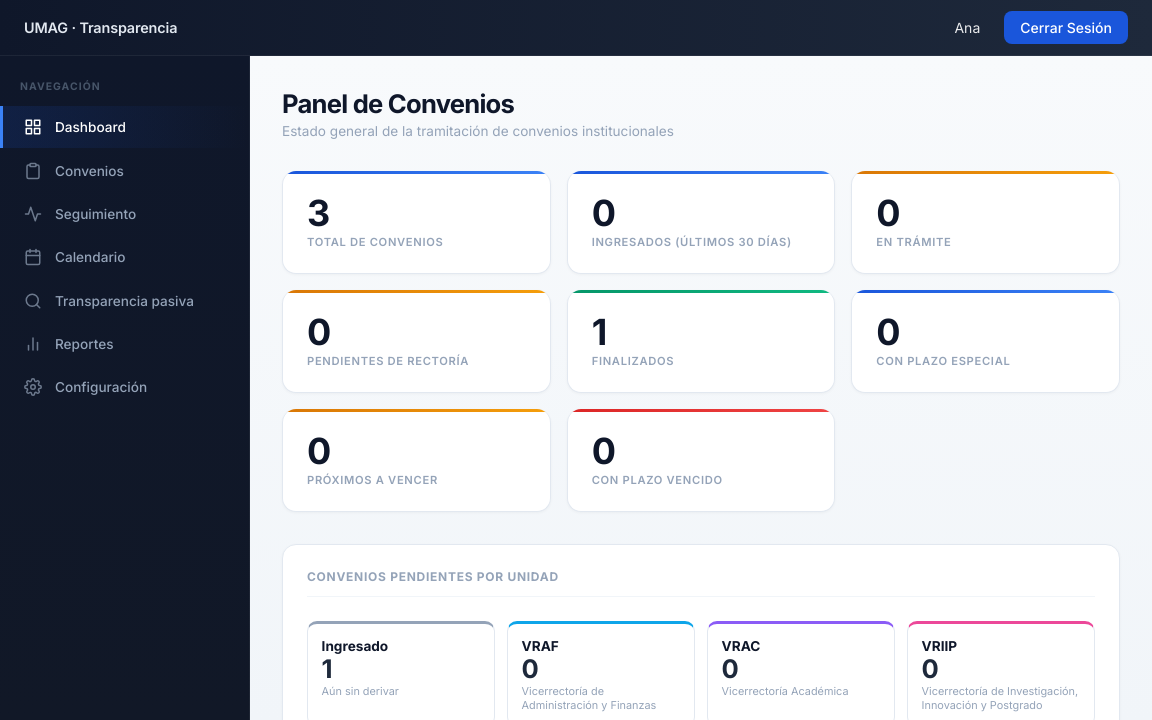
filtros del listado de convenios › entrar por el menú lateral NO arrastra el filtro de la tarjeta
This screenshot has width=1152, height=720.
Step 1. Click the text "Finalizados" → (633, 361), box [592,354,674,368]
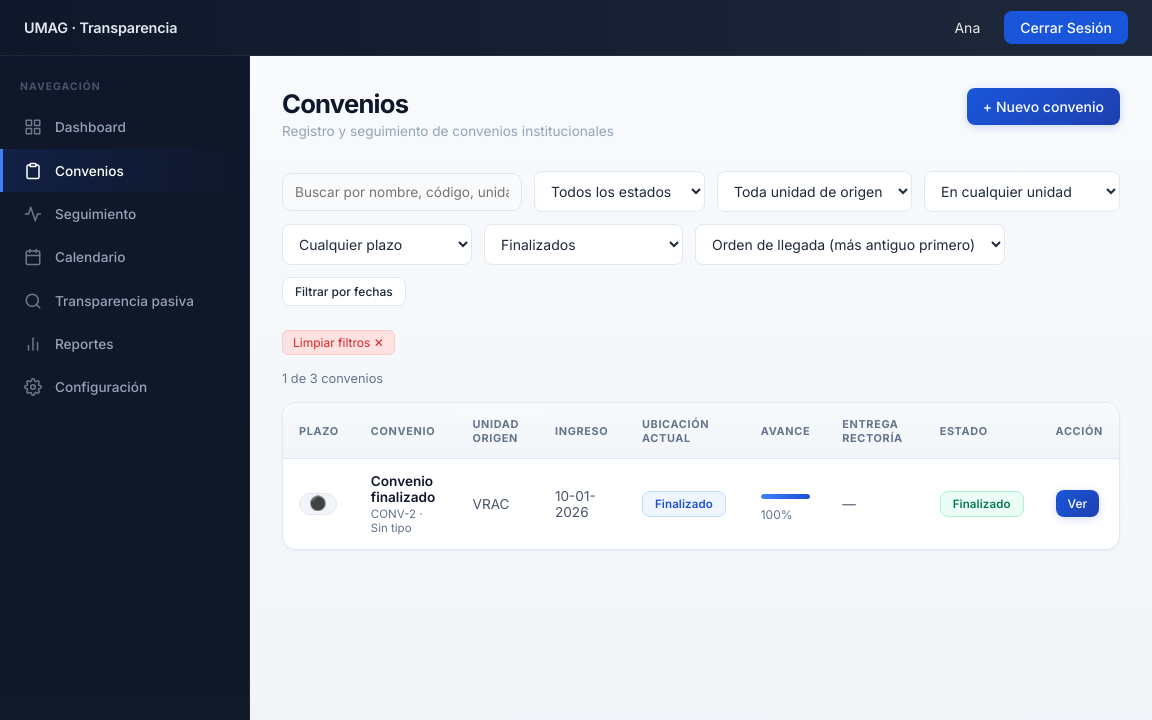
Now the field with placeholder "Buscar por nombre, código, unidad, contraparte..." is shown, box [282,172,522,210]
Now the text "1 de 3 convenios" is shown, box [282,371,383,386]
Step 2. Click the text "Dashboard" → (75, 127), box [24,118,126,136]
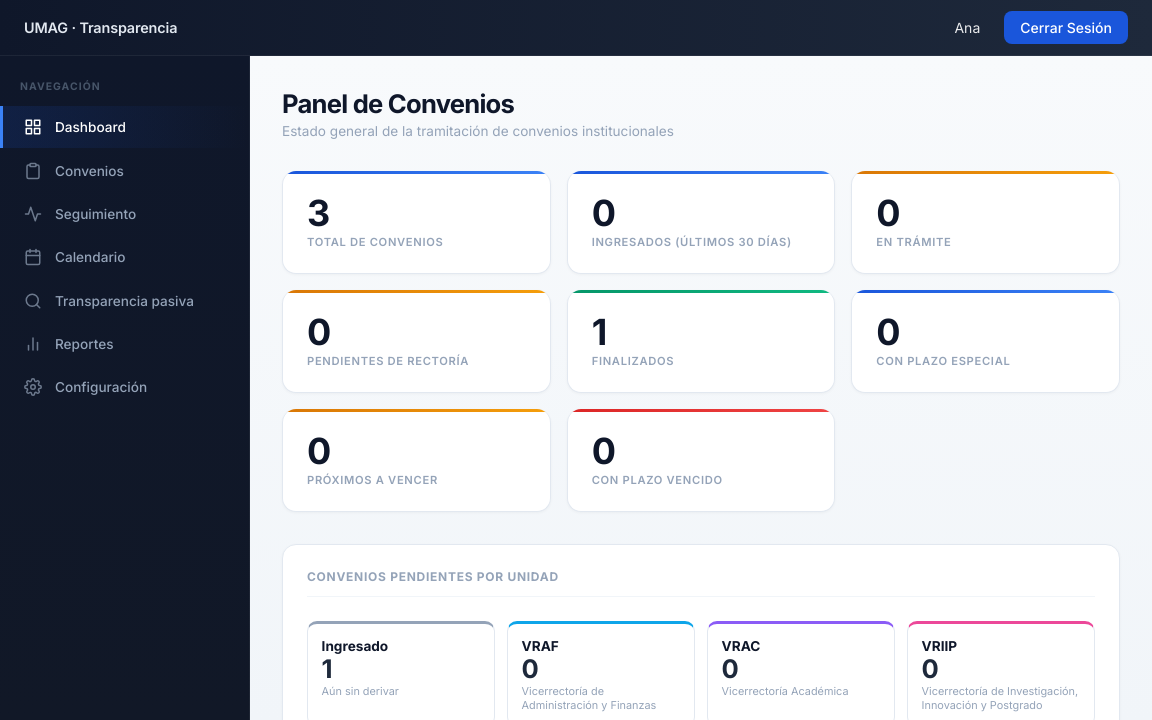
Now the heading "Panel de Convenios" is shown, box [282,88,514,119]
Step 3. Click the text "Convenios" → (74, 171), box [24,162,124,180]
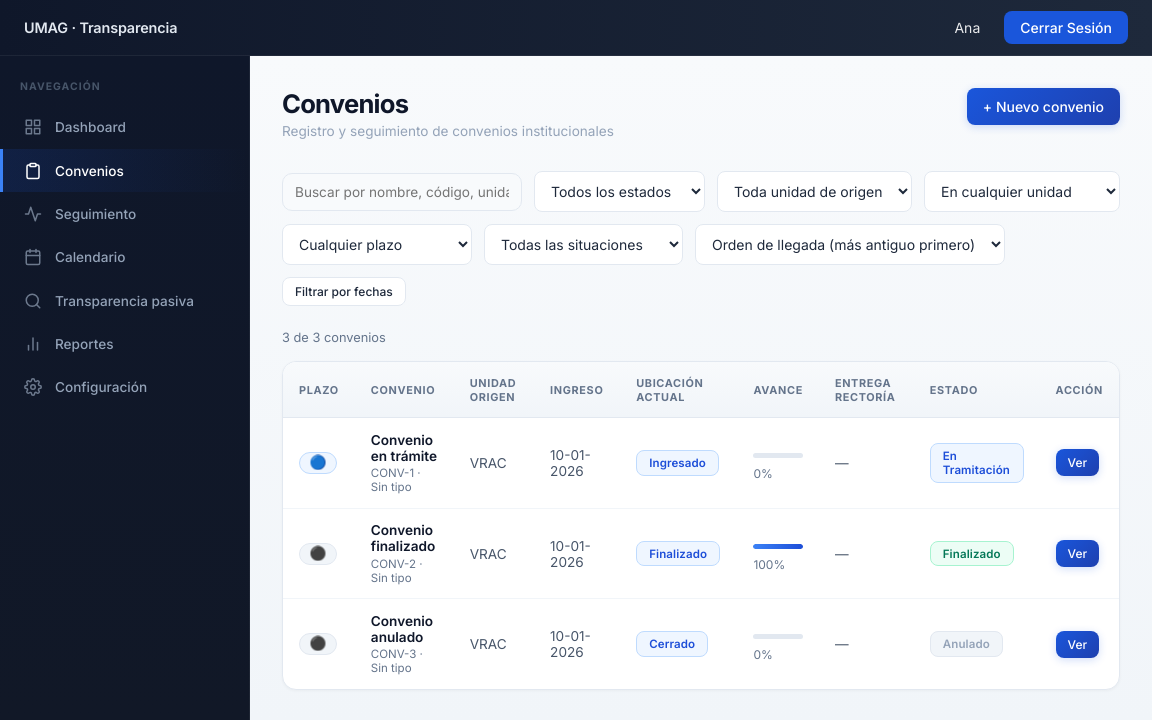
Now the text "3 de 3 convenios" is shown, box [282,330,386,345]
